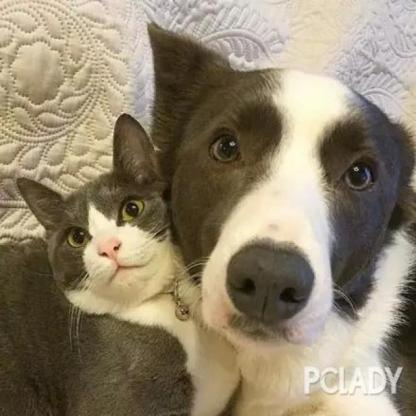cat: (13, 133, 192, 341)
dog: (135, 27, 416, 371)
